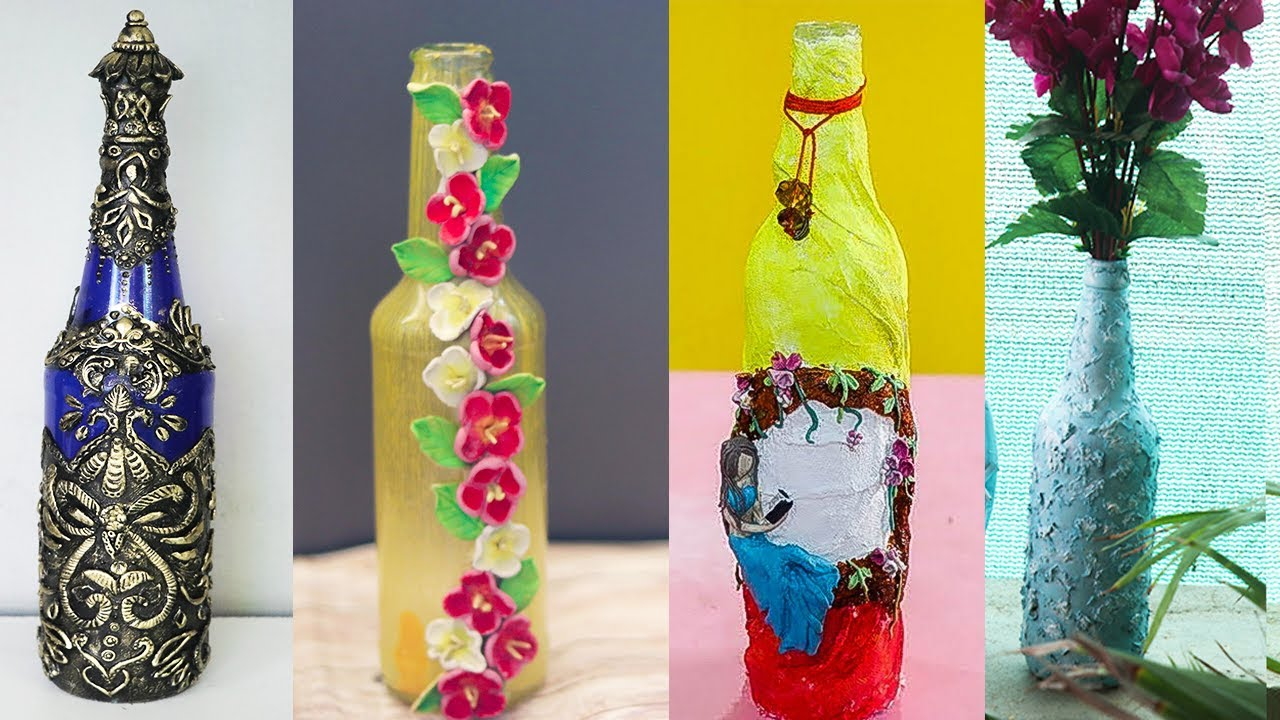glass_bottle: (707, 8, 952, 720), (348, 30, 598, 720), (28, 8, 220, 708), (1006, 256, 1163, 711)
